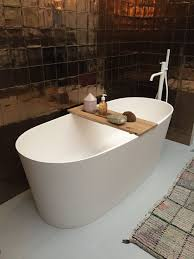bathub: (11, 91, 174, 228)
